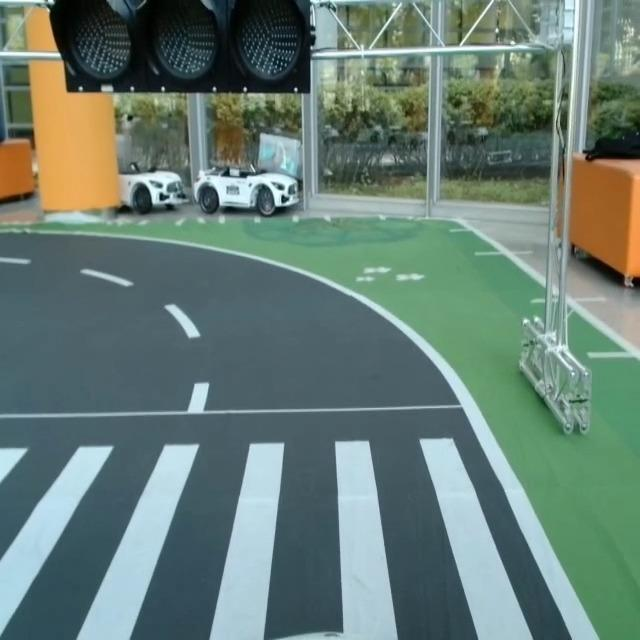traffic-light: (46, 0, 321, 98)
